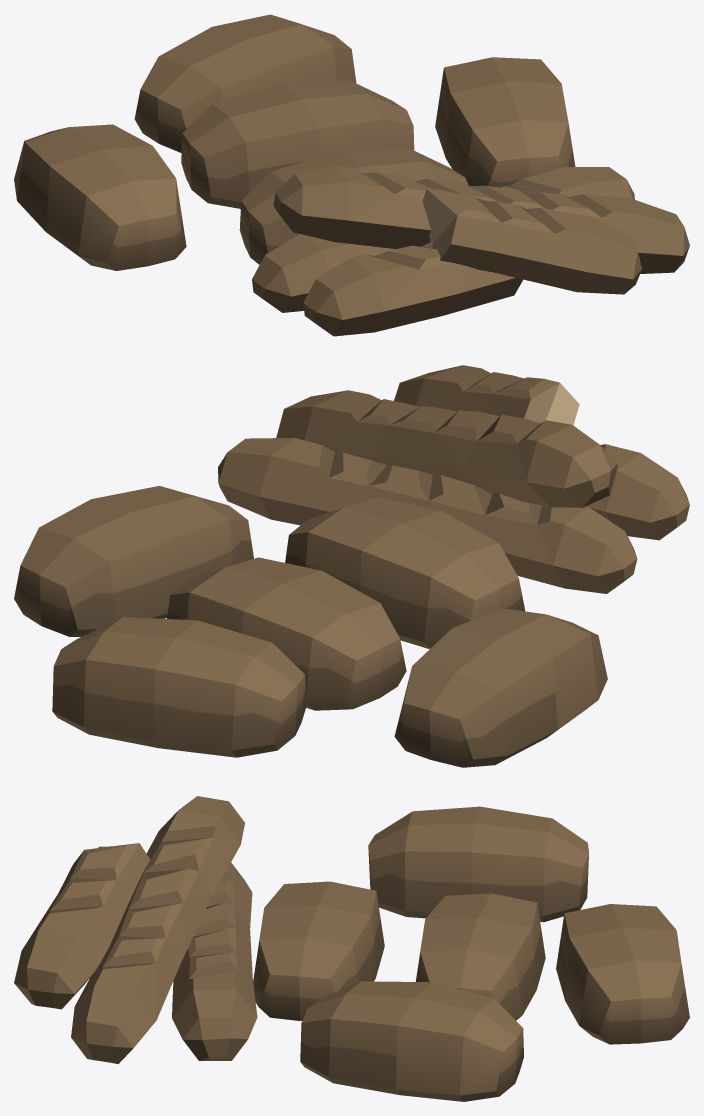
Rendered from SM_Prop_Cart_Tray_Bread_01.fbx.
The picture shows the model from 3 angles, top to bottom: view 1: azimuth 30°, elevation 25°; view 2: azimuth 150°, elevation 25°; view 3: azimuth 270°, elevation 25°; orthographic projection. The views are drawn at different scales.
Visible parts, largest first — view 1: SM_Prop_Cart_Tray_Bread_01; view 2: SM_Prop_Cart_Tray_Bread_01; view 3: SM_Prop_Cart_Tray_Bread_01.
Boxes of the visible parts, x1,y1,x2,y2 form: SM_Prop_Cart_Tray_Bread_01: [14, 14, 689, 336]; SM_Prop_Cart_Tray_Bread_01: [14, 365, 689, 767]; SM_Prop_Cart_Tray_Bread_01: [14, 796, 689, 1101].
Size of the model in its own units: 95.66 by 26.09 by 118.
